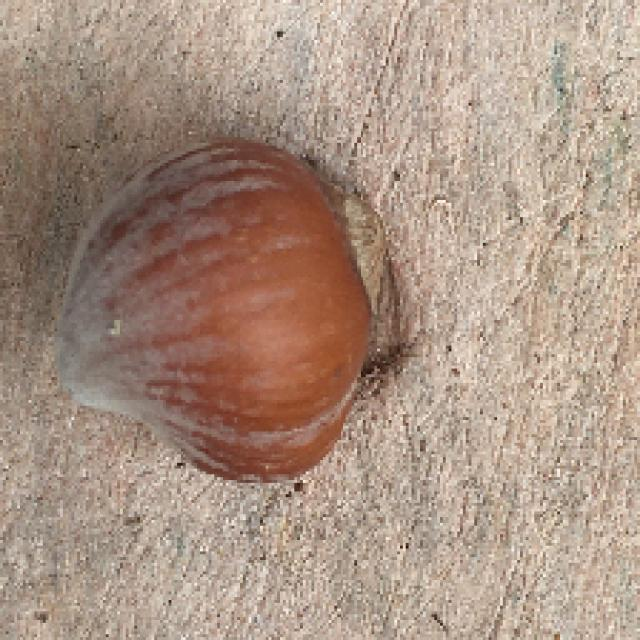qualityHazelnut: (36, 138, 397, 488)
